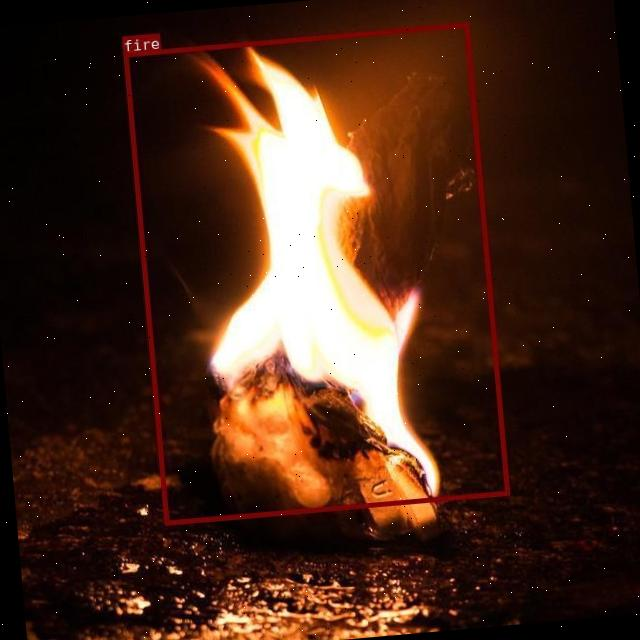fire: (123, 22, 509, 524)
